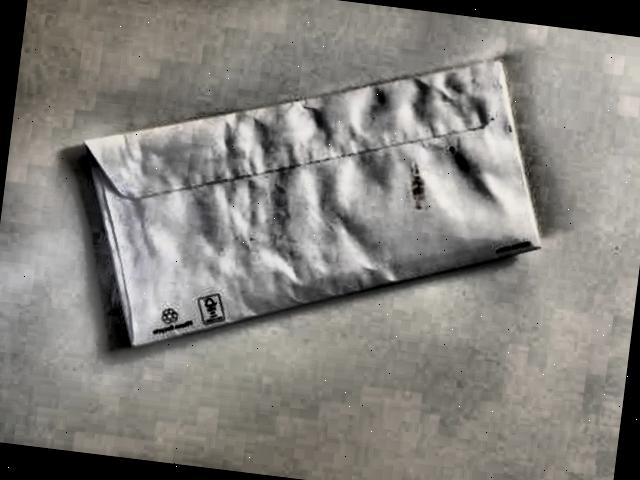Paper: (3, 0, 638, 479)
